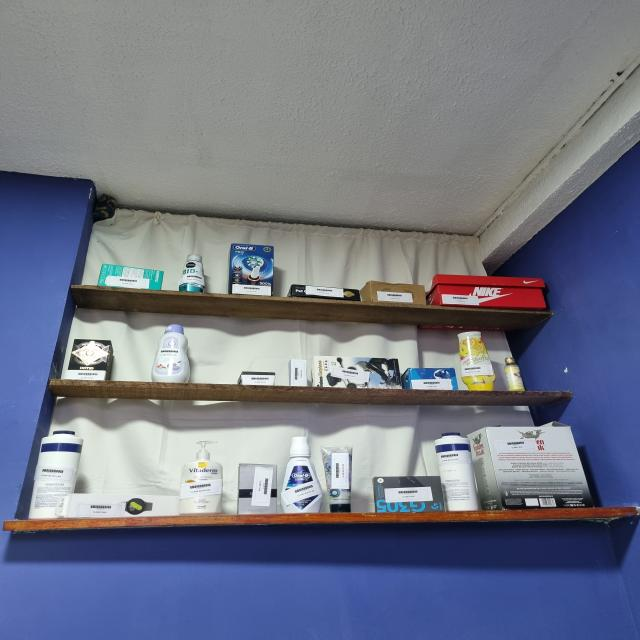botella: (29, 431, 83, 519), (435, 432, 481, 511), (280, 436, 322, 513), (179, 441, 222, 514), (151, 324, 190, 383), (458, 332, 496, 391), (321, 446, 352, 512), (178, 254, 205, 292), (503, 355, 526, 391)
caja: (469, 422, 593, 510), (426, 274, 546, 310), (56, 493, 179, 518), (313, 356, 401, 389), (373, 476, 445, 513), (228, 243, 274, 296), (237, 464, 277, 514), (66, 339, 113, 380), (98, 263, 164, 290), (360, 281, 426, 306), (287, 284, 361, 301), (401, 368, 458, 390), (287, 360, 308, 387), (237, 371, 275, 385)
